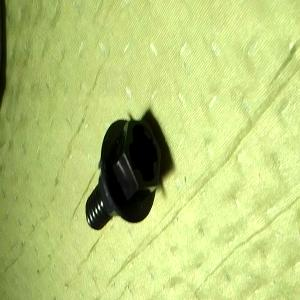parafuso: (84, 120, 163, 231)
